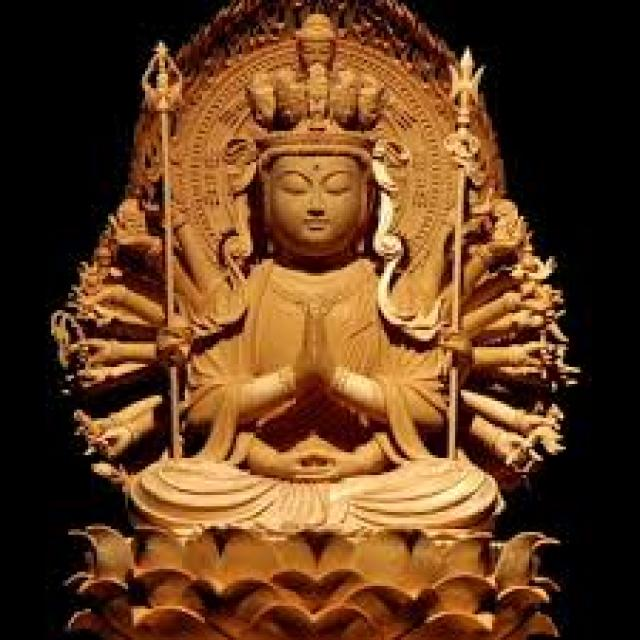Guan Yin: (231, 109, 380, 274)
